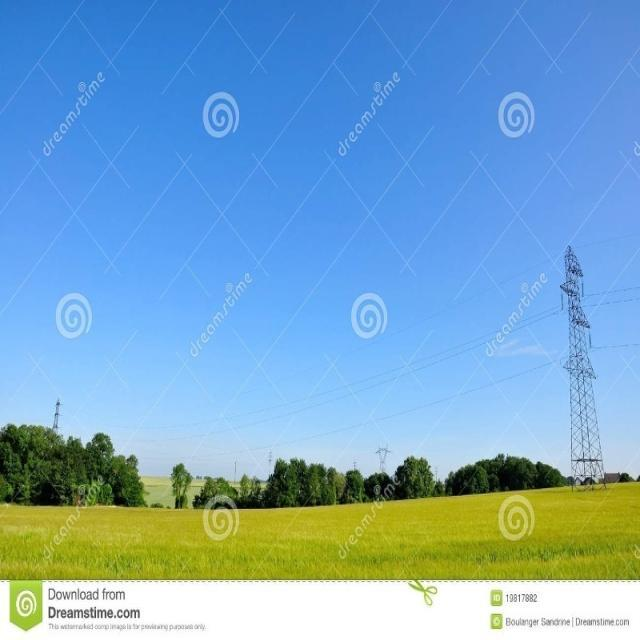non-critical vegetation: (555, 229, 610, 487)
